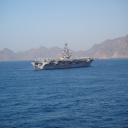Portanaves: (32, 40, 98, 73)
